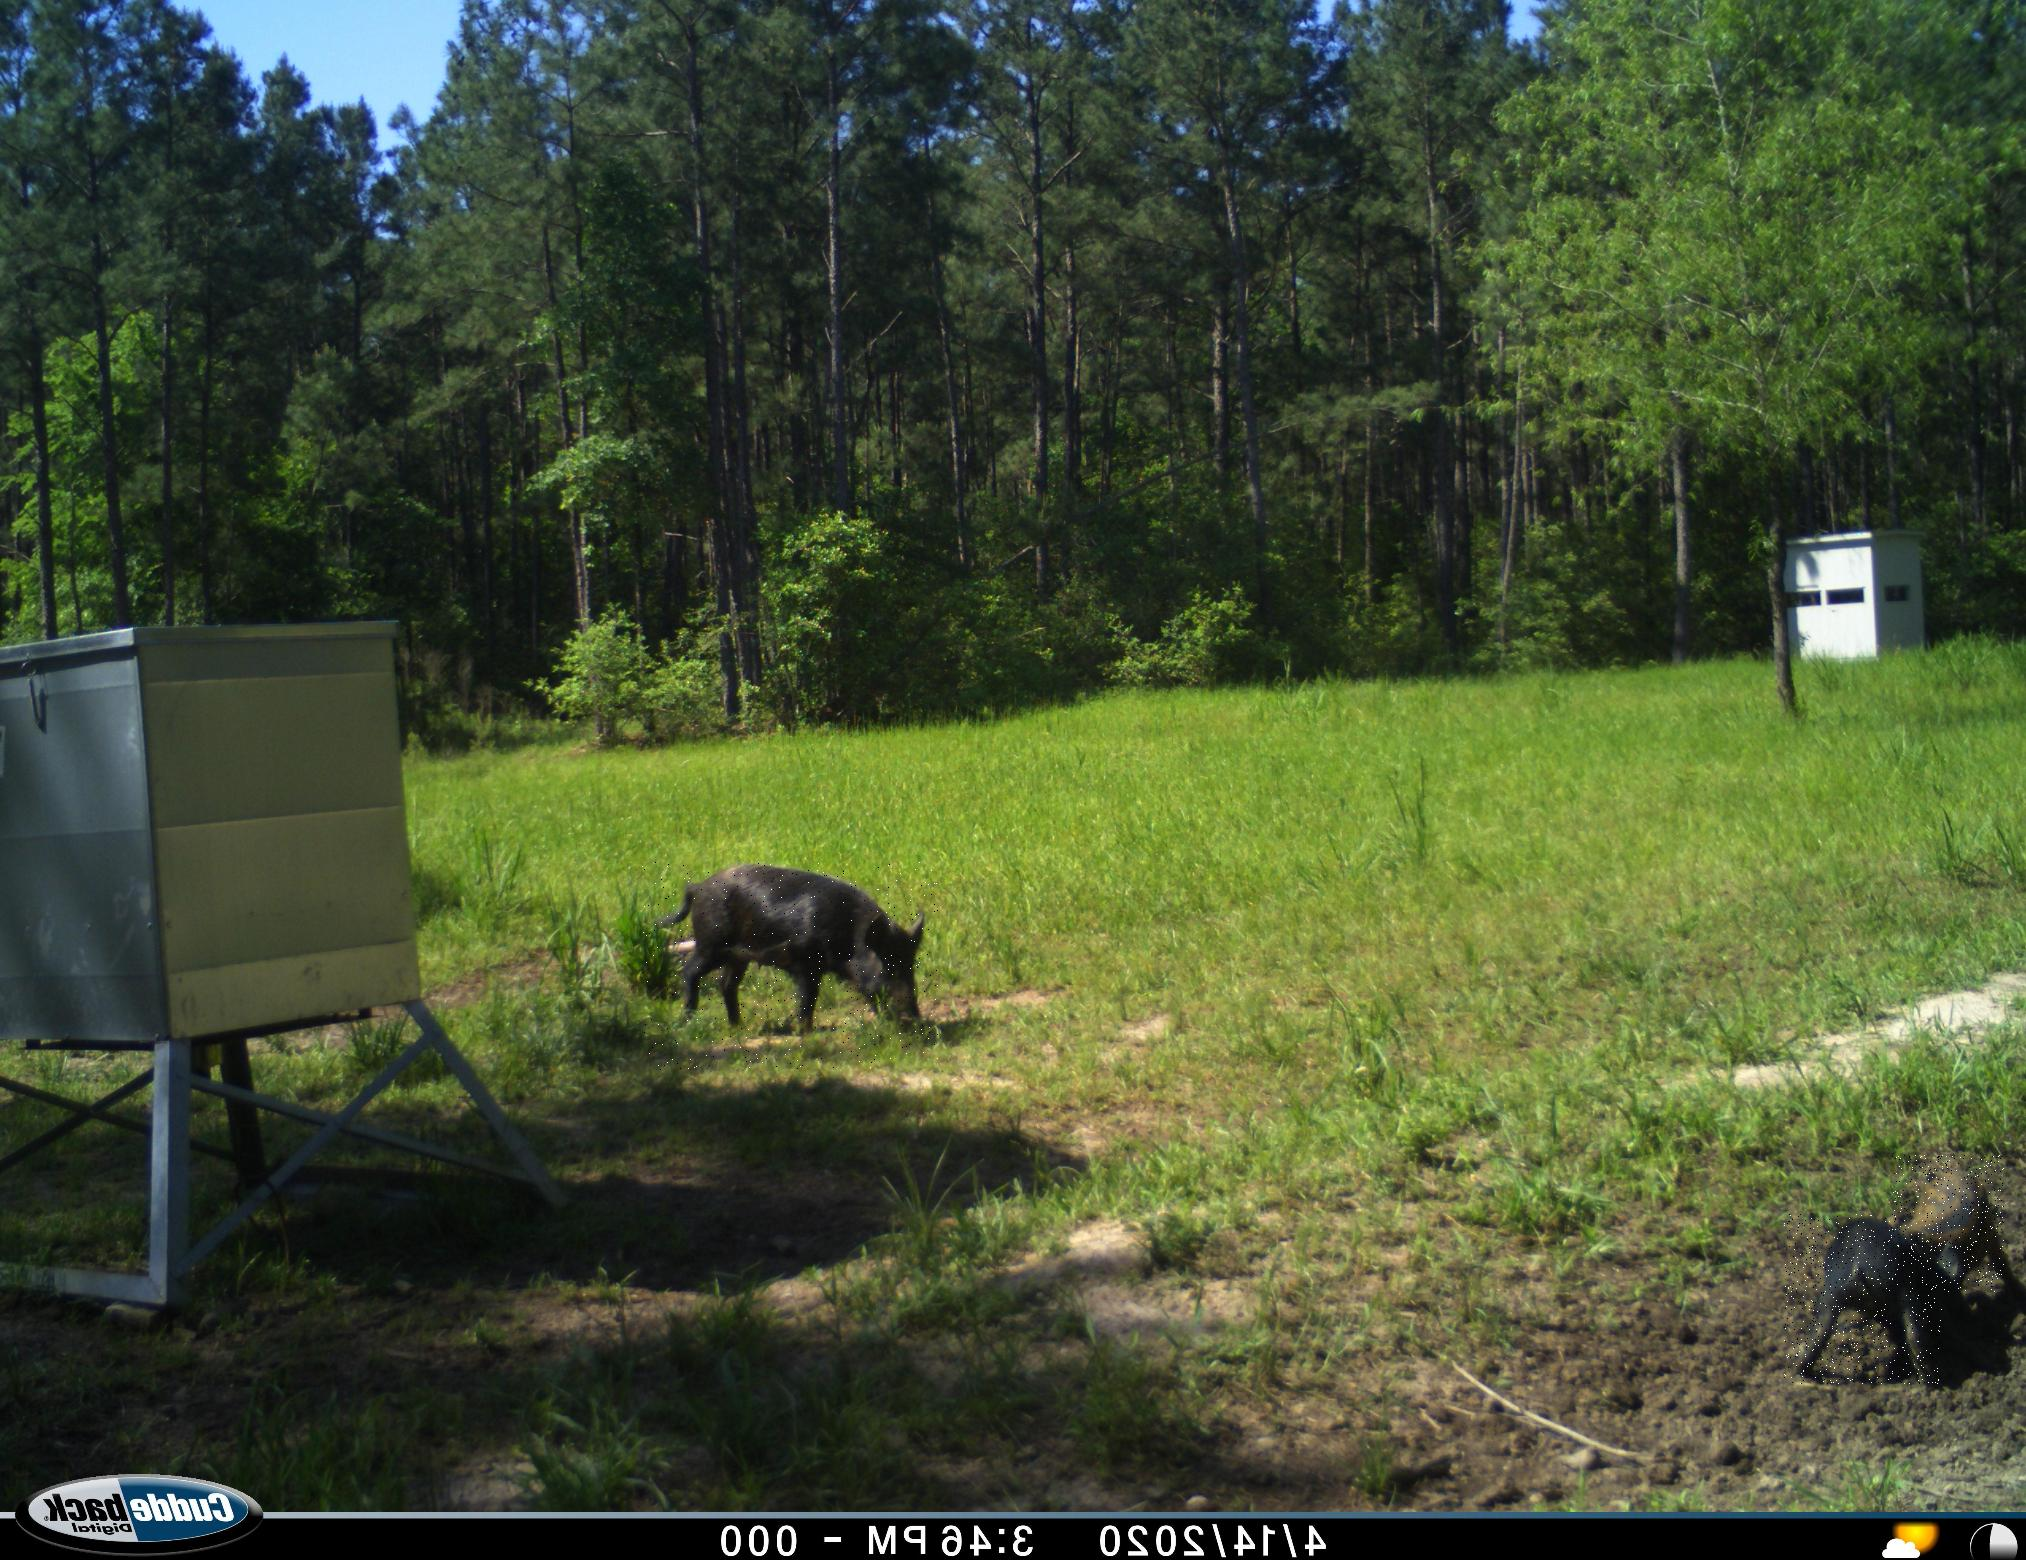Hog: (642, 862, 938, 1070), (1784, 1214, 1942, 1384), (1892, 1154, 2004, 1292)
